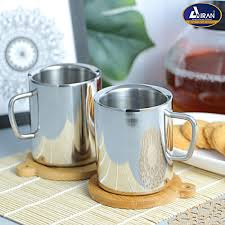mug: (84, 75, 208, 199), (7, 55, 119, 183)
